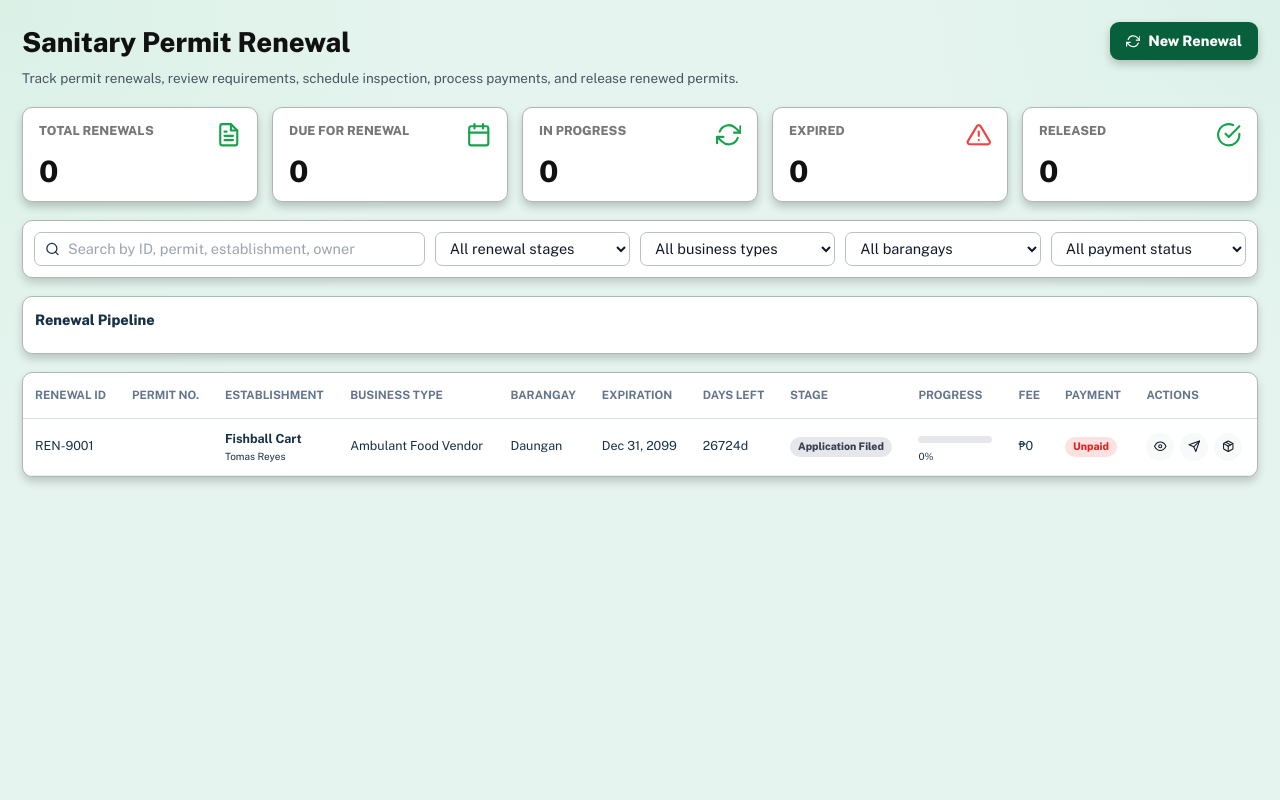
Scenario: Renewal detail › shows an empty state and no toggleable generic items for a type with none configured
Step 1. Click the button titled "View Full Details" → [1160, 447], box [1146,433,1174,461]
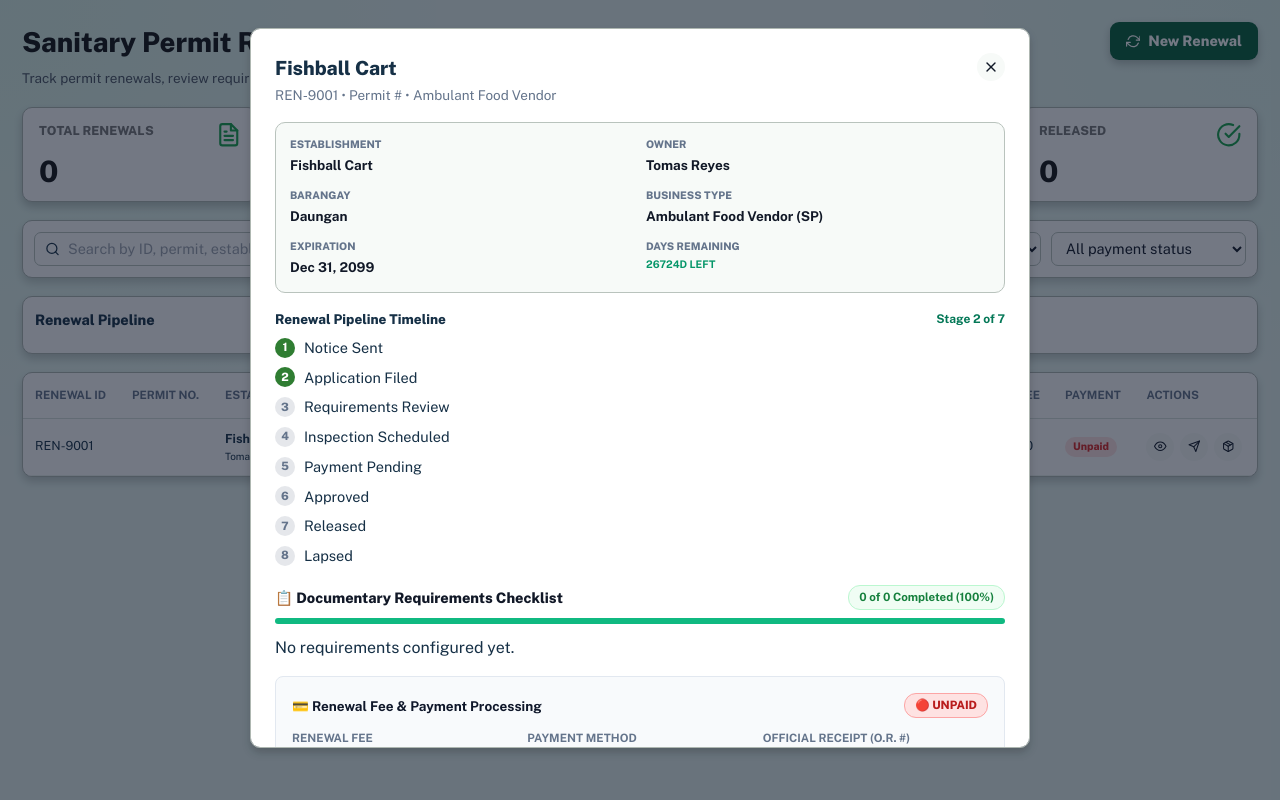
Check: the text "No requirements configured yet." is shown, box [275,638,514,657]
